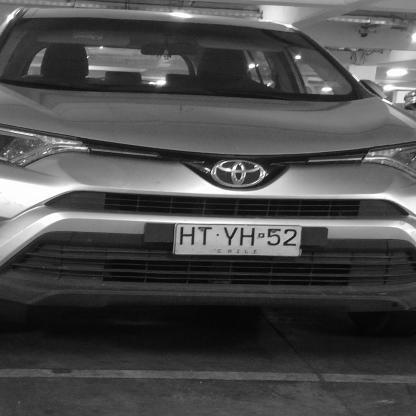Patente: (175, 222, 304, 258)
